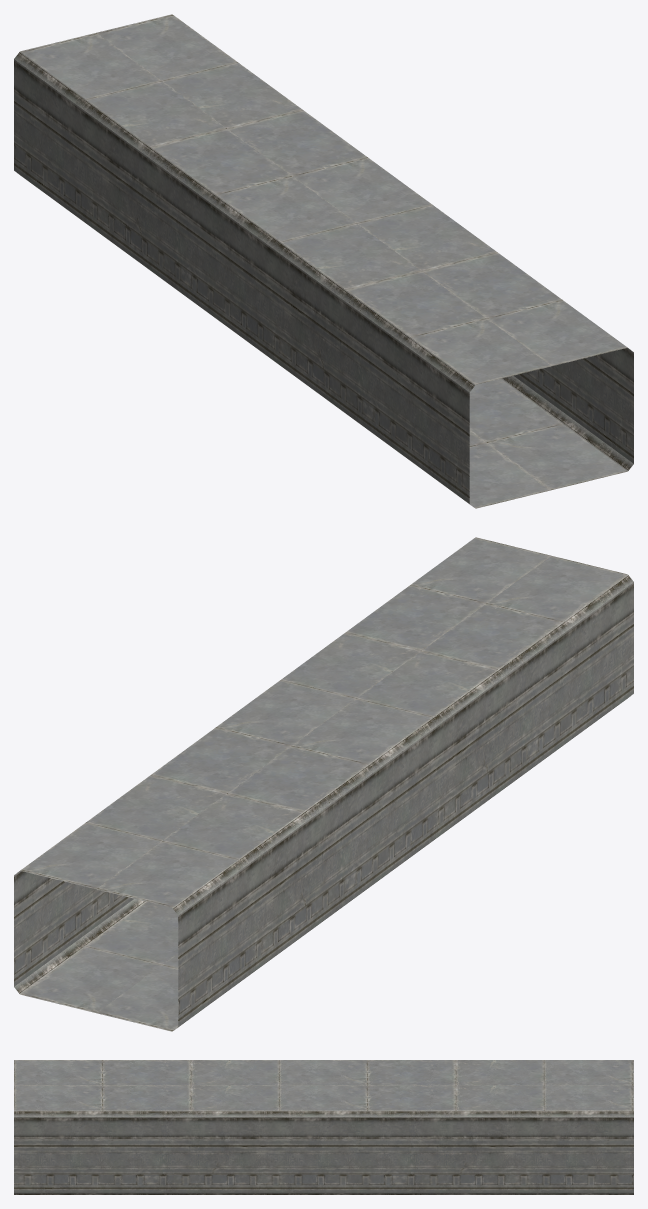
Rendered from FBX_Ledge_Straight.fbx.
3 renders of one model, top to bottom at view 1: azimuth 30°, elevation 25°; view 2: azimuth 150°, elevation 25°; view 3: azimuth 270°, elevation 25°, orthographic. The views are drawn at different scales.
Visible parts, largest first — view 1: Ledge; view 2: Ledge; view 3: Ledge.
Part boxes in pixels (x1=…): Ledge: x1=14, y1=14, x2=633, y2=508; Ledge: x1=14, y1=537, x2=633, y2=1031; Ledge: x1=14, y1=1060, x2=633, y2=1194.
Size of the model in its own units: 208 by 150 by 1000.
1 material, 1 textured.
